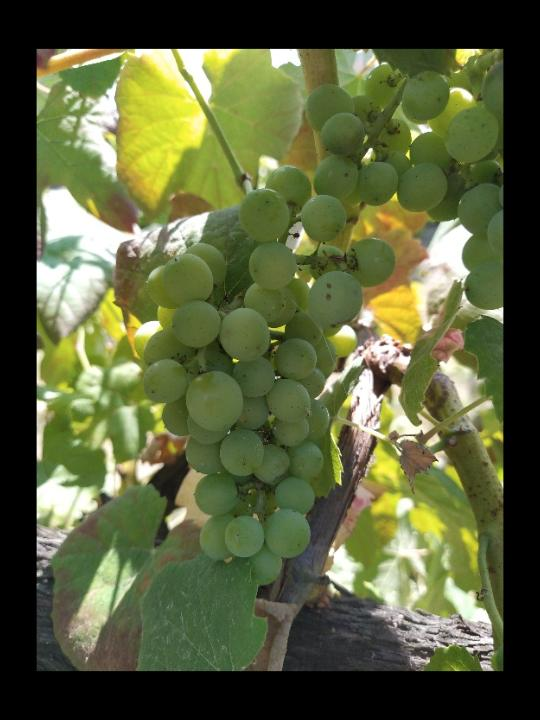grape: (109, 163, 396, 589)
